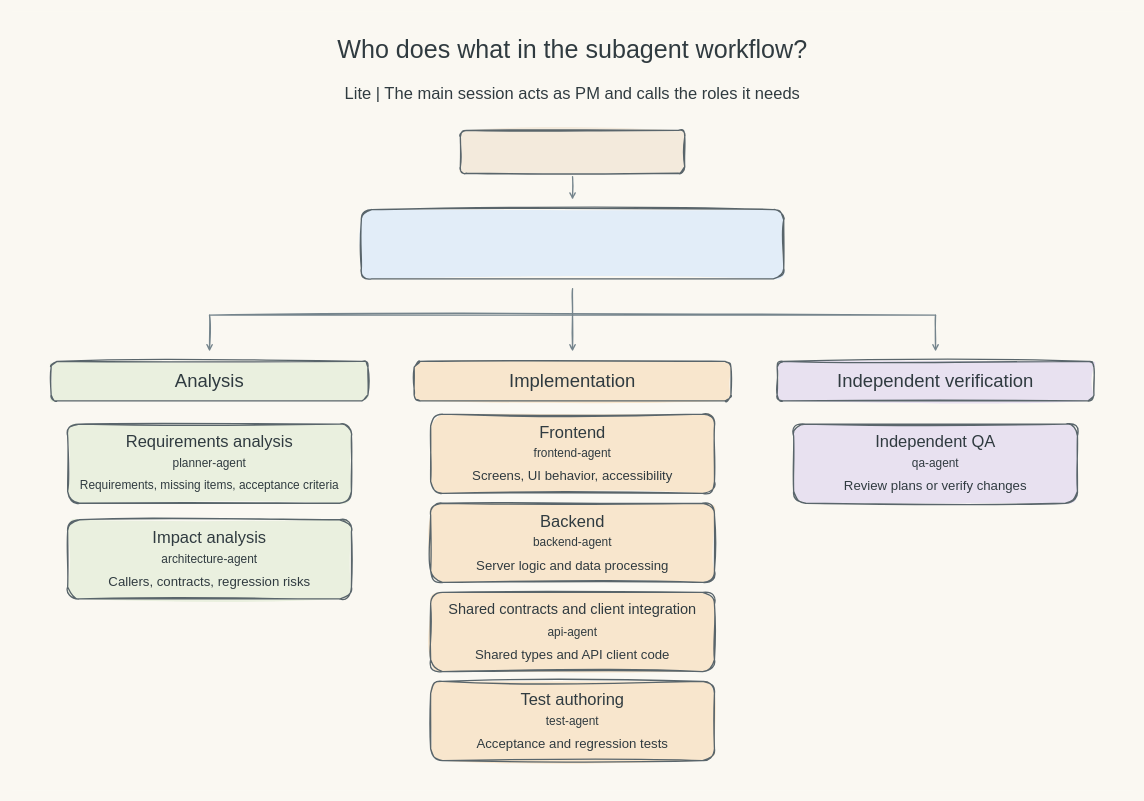
This 1144x801 diagram has some shape labels left out. The centre of each missing label's shape, as x and y in pixels:
PM = Main session Classify and confirm requests, run checks, report results: point 572,244
User: /subagent-workflow:run request: point 572,151
